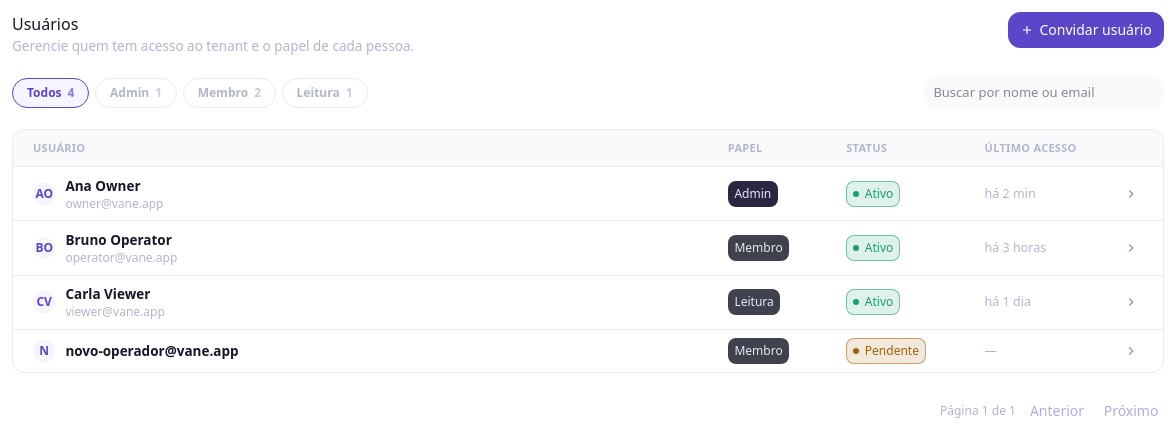
Test: AdminsPage › role chips filter the table with the correct count (USRPG-02)
Expected: the text "owner@vane.app" is shown, left=65, top=196, right=164, bottom=212
Click the button "Admin 1". click: [136, 93]
box: left=95, top=78, right=177, bottom=108
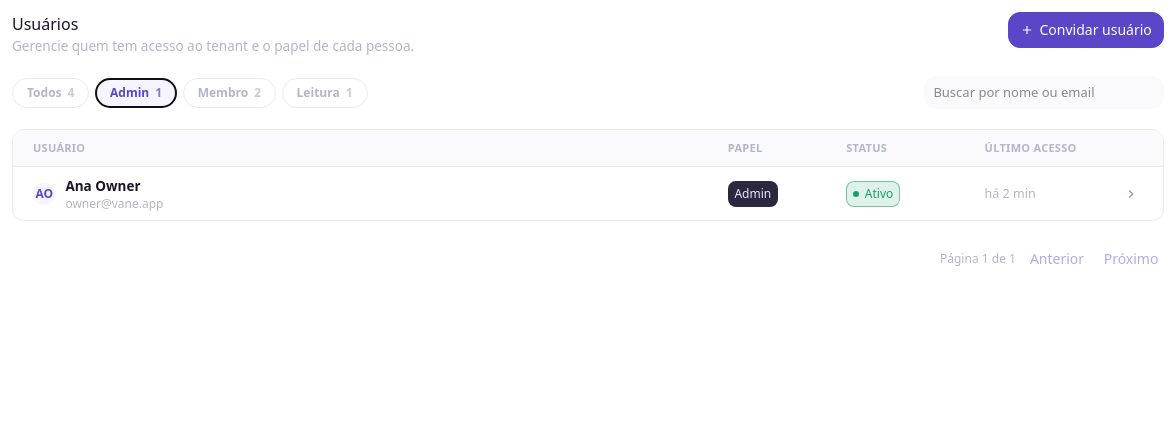
Expected: the text "owner@vane.app" is shown, left=65, top=196, right=164, bottom=212
Expected: the text "operator@vane.app" is gone
Expected: the text "viewer@vane.app" is gone
